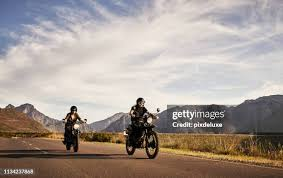motorcycle: (119, 109, 164, 160), (58, 116, 89, 150)
